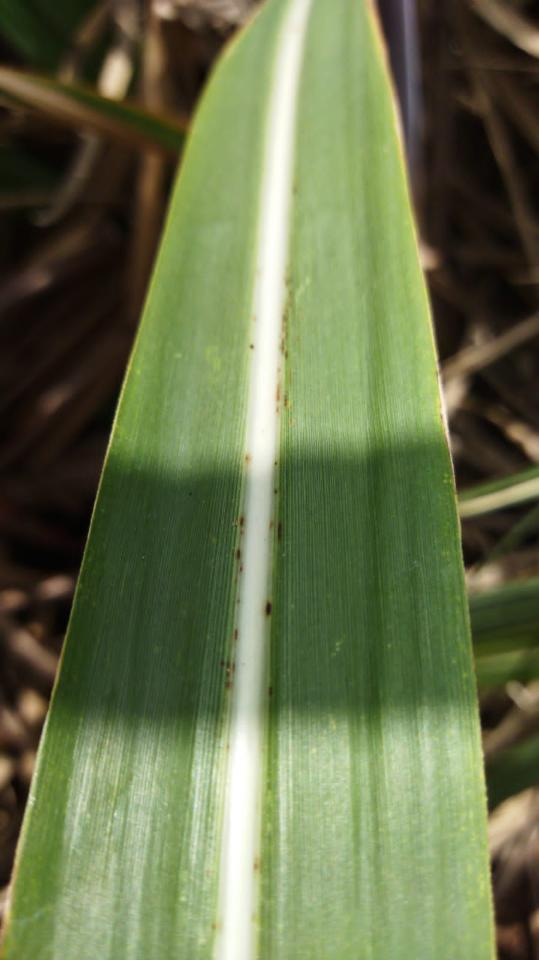Rust: (276, 267, 294, 416), (217, 659, 237, 693), (231, 510, 247, 537), (233, 545, 244, 575), (263, 600, 275, 621), (277, 522, 285, 544), (232, 627, 241, 644), (248, 341, 256, 352), (273, 459, 282, 468), (273, 489, 281, 497)
